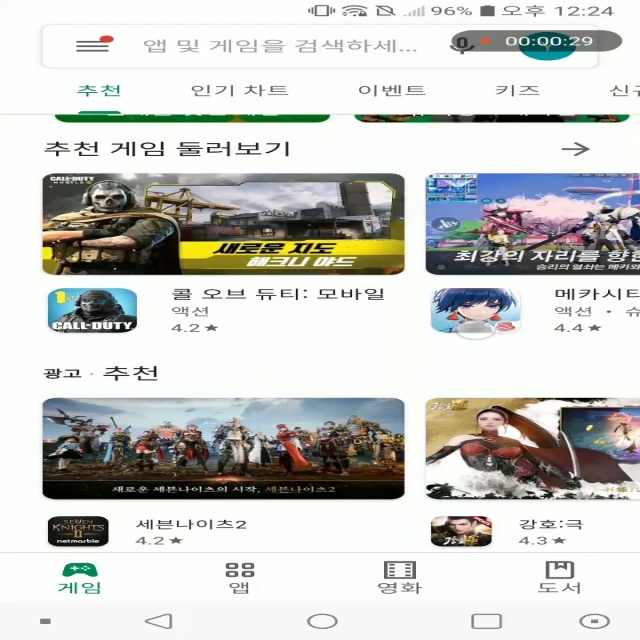Cursor: (453, 320, 497, 342)
